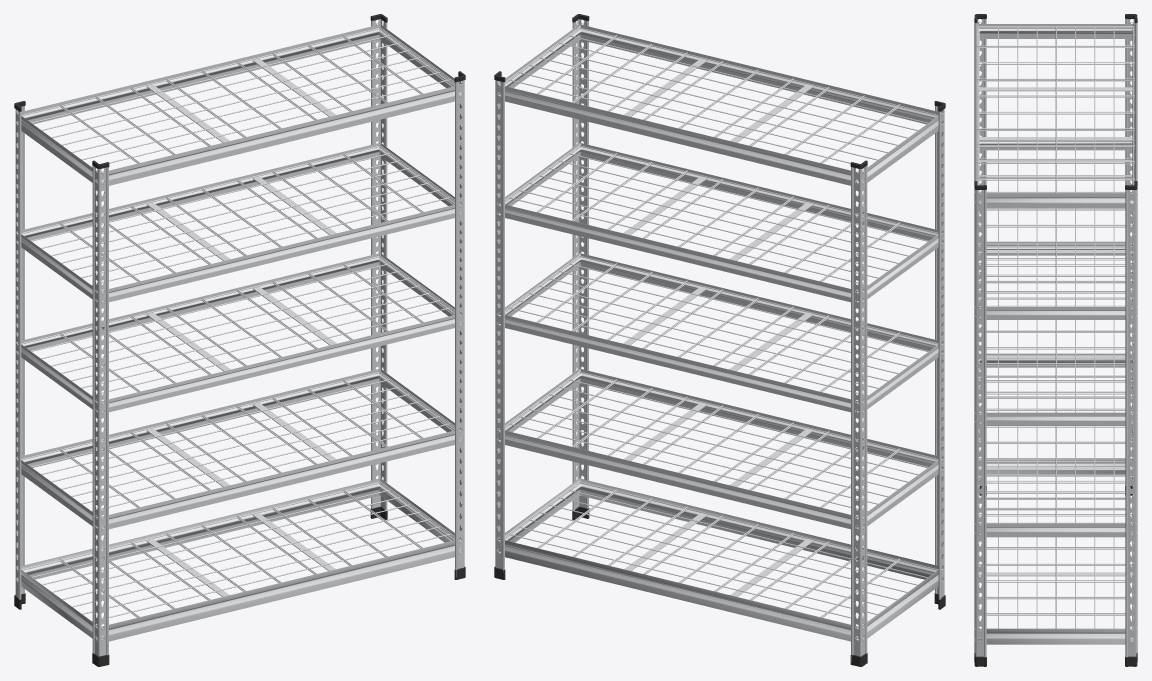
Rendered from abo-B072MF4SHR.glb.
The picture shows the model from 3 angles, left to right: view 1: azimuth 30°, elevation 25°; view 2: azimuth 150°, elevation 25°; view 3: azimuth 270°, elevation 25°; orthographic projection. The views are drawn at different scales.
Bounding box in the file's own units: 1.52 × 1.98 × 0.61.
1 material, 1 textured.
